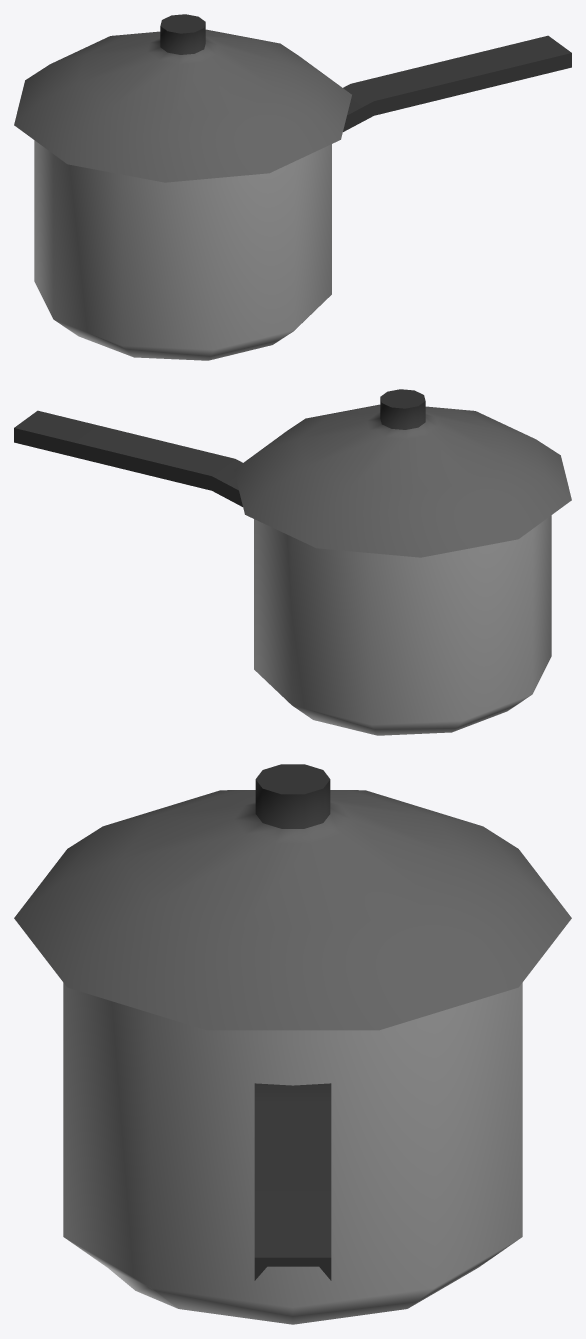
File: Pot#1Model.fbx
The picture shows the model from 3 angles, top to bottom: view 1: azimuth 30°, elevation 25°; view 2: azimuth 150°, elevation 25°; view 3: azimuth 270°, elevation 25°; orthographic projection. The views are drawn at different scales.
Visible parts, largest first — view 1: Pot#1Model; view 2: Pot#1Model; view 3: Pot#1Model.
Part boxes in pixels (x1,y1,x2,y2): Pot#1Model: [14, 14, 571, 360]; Pot#1Model: [14, 389, 571, 735]; Pot#1Model: [14, 764, 571, 1324].
Bounding box in the file's own units: 91.07 × 48.07 × 52.49.
